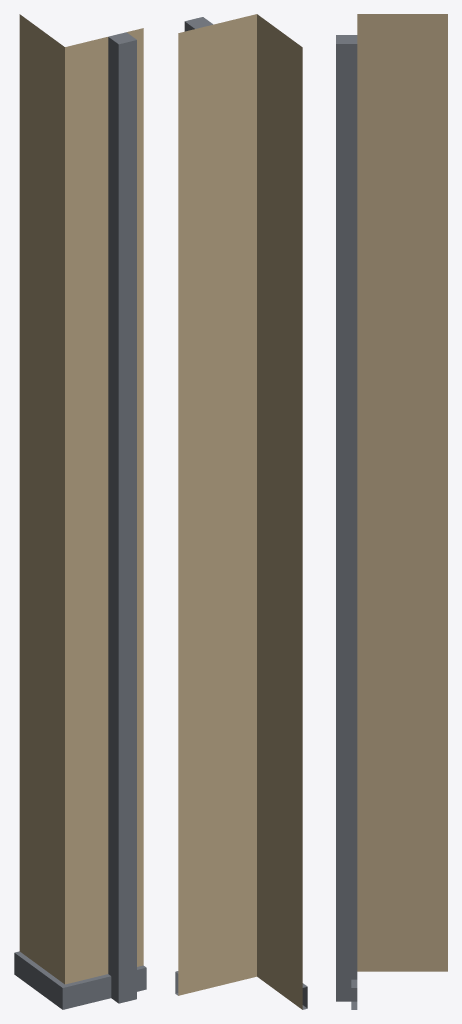
Rendered from mid-c1.fbx.
3 renders of one model, left to right at view 1: azimuth 30°, elevation 25°; view 2: azimuth 210°, elevation 25°; view 3: azimuth 270°, elevation 25°, orthographic.
Parts seen in each view (by area): view 1: a2000/800/mid-c1; view 2: a2000/800/mid-c1; view 3: a2000/800/mid-c1.
Part boxes in pixels (x1,y1,x2,y2): a2000/800/mid-c1: [14, 14, 146, 1009]; a2000/800/mid-c1: [175, 14, 307, 1009]; a2000/800/mid-c1: [336, 14, 447, 1009].
Size of the model in its own units: 0.32 by 3.5 by 0.37.
